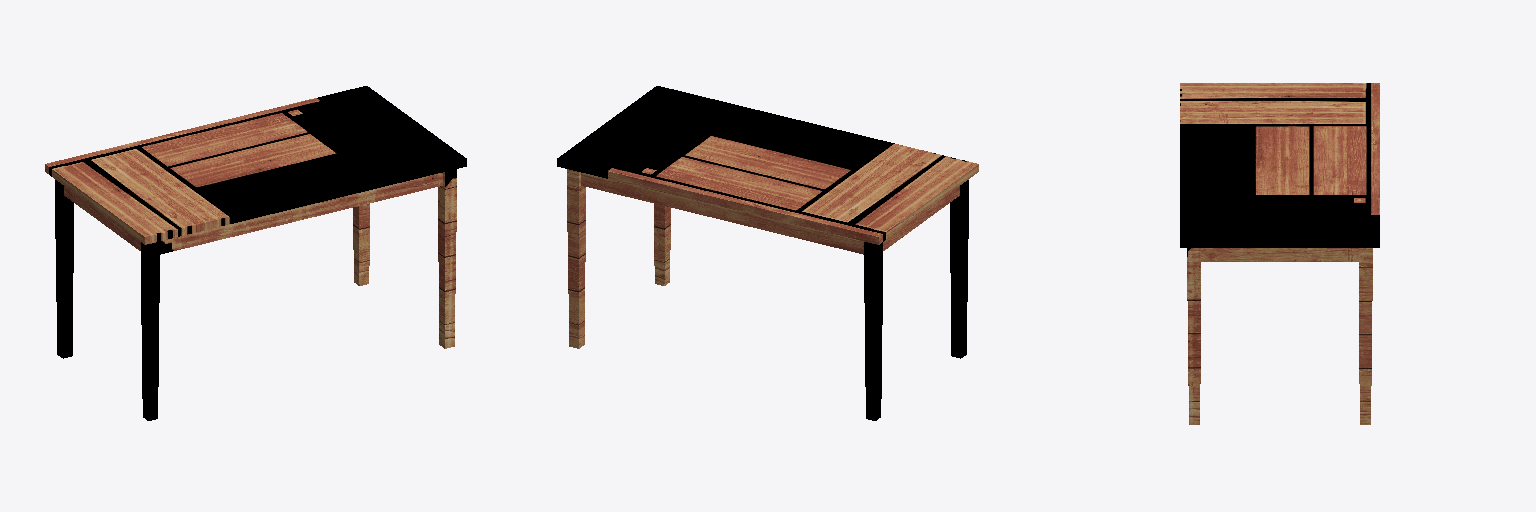
The picture shows the model from 3 angles: view 1: azimuth 30°, elevation 25°; view 2: azimuth 150°, elevation 25°; view 3: azimuth 270°, elevation 25°; orthographic projection.
Visible parts, largest first — view 1: old_wooden_table; view 2: old_wooden_table; view 3: old_wooden_table.
Part boxes in pixels (x1,y1,x2,y2): old_wooden_table: (45, 86, 466, 420); old_wooden_table: (557, 86, 978, 420); old_wooden_table: (1180, 83, 1379, 424).
Size of the model in its own units: 2.6 by 1.46 by 1.4.
Materials: 1 (1 with a texture image).